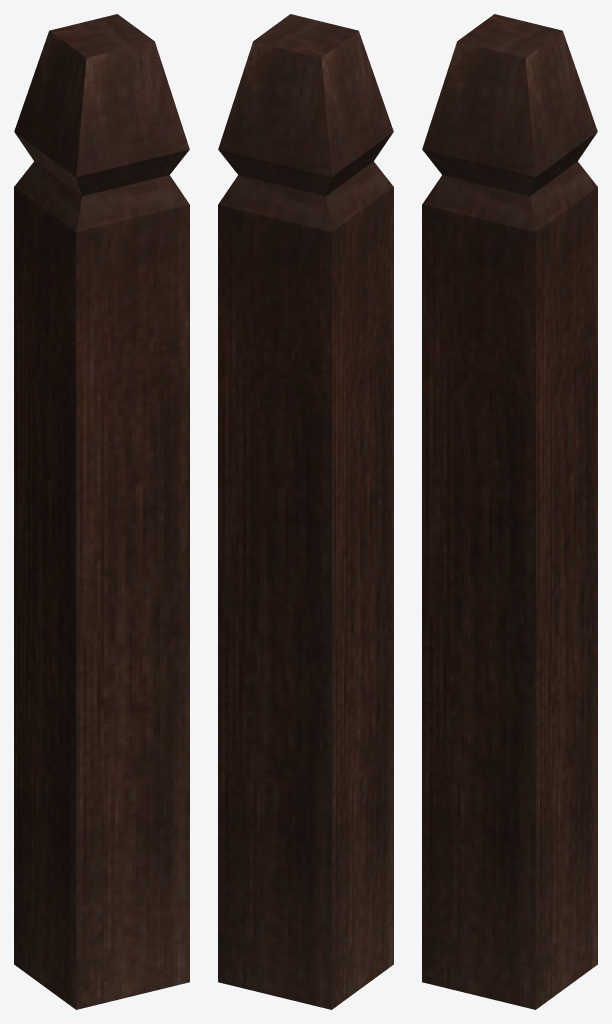
File: banisterbase.glb
The picture shows the model from 3 angles, left to right: view 1: azimuth 30°, elevation 25°; view 2: azimuth 150°, elevation 25°; view 3: azimuth 330°, elevation 25°; orthographic projection.
Parts seen in each view (by area): view 1: banisterbase; view 2: banisterbase; view 3: banisterbase.
Boxes of the visible parts, bbox=[...] form: banisterbase: bbox=[14, 14, 189, 1009]; banisterbase: bbox=[218, 14, 393, 1009]; banisterbase: bbox=[422, 14, 597, 1009].
Size of the model in its own units: 0.2159 by 1.7 by 0.2044.
Materials: 1 (1 with a texture image).
